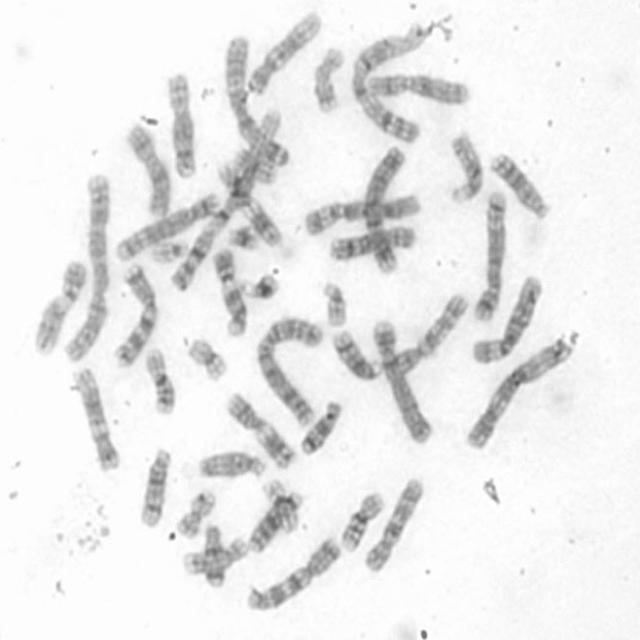A1: (169, 102, 287, 295), (346, 19, 430, 145)
A2: (59, 167, 114, 364), (253, 311, 325, 428)
A3: (461, 332, 575, 452), (219, 31, 291, 170)
B4: (368, 314, 436, 446), (358, 141, 407, 275)
B5: (111, 187, 222, 264), (470, 185, 510, 324)
C10: (384, 289, 467, 381), (360, 473, 426, 574)
C11: (214, 156, 285, 249), (222, 388, 298, 471)
C12: (244, 5, 324, 97), (69, 364, 122, 472)
C6: (468, 270, 544, 366), (299, 188, 422, 237)
C7: (242, 530, 344, 614), (110, 258, 160, 370)
C8: (163, 68, 200, 180), (326, 222, 419, 262)
C9: (31, 257, 89, 357), (209, 243, 250, 338)
D13: (486, 148, 552, 223), (244, 486, 306, 556)
D14: (136, 444, 172, 530), (334, 335, 387, 390)
D15: (444, 126, 486, 205), (194, 445, 268, 481)
E16: (337, 488, 385, 554), (141, 344, 178, 415)
E17: (179, 531, 249, 579), (309, 42, 346, 115)
E18: (297, 395, 342, 456), (198, 521, 228, 589)
F19: (258, 474, 302, 534), (183, 334, 229, 383)
F20: (172, 486, 216, 540), (229, 143, 279, 186)
G21: (235, 269, 280, 302), (222, 220, 262, 253)
G22: (318, 277, 348, 330), (147, 236, 191, 266)
X: (123, 120, 173, 219), (365, 70, 470, 107)
